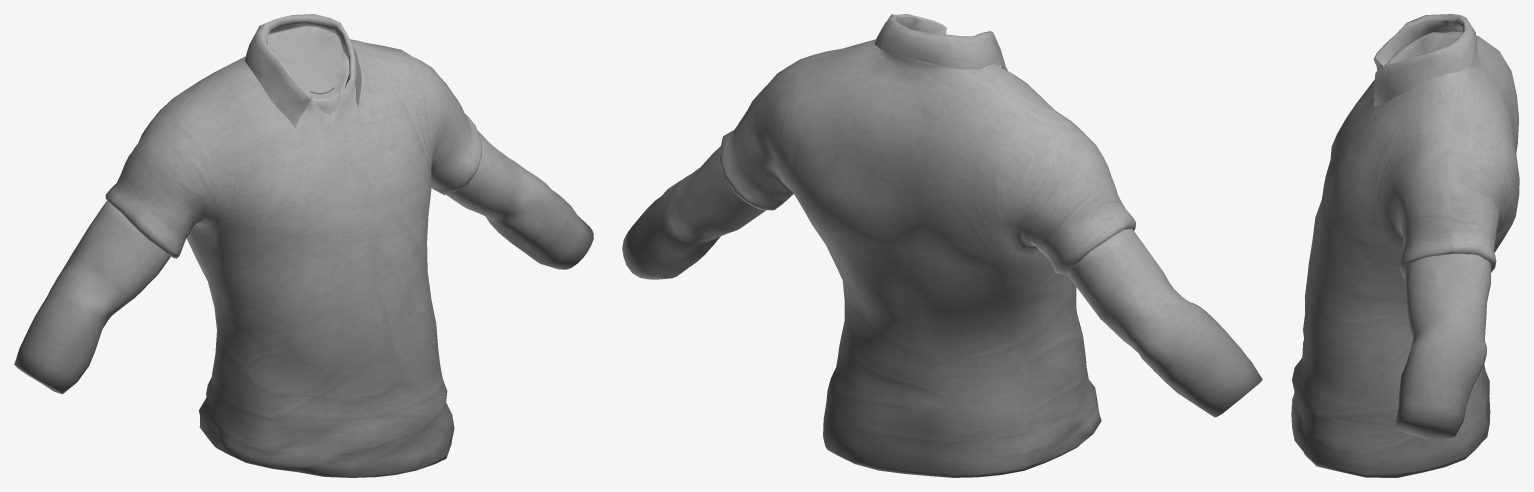
Rendered from SurvivorMale_Chest_Shirt_PoloLongSleeve_LOD0.glb.
3 views of the same model, side by side, from view 1: azimuth 30°, elevation 25°; view 2: azimuth 150°, elevation 25°; view 3: azimuth 270°, elevation 25° (orthographic). The views are drawn at different scales.
Visible parts, largest first — view 1: Hoodie; view 2: Hoodie; view 3: Hoodie.
Boxes of the visible parts, bbox=[...] form: Hoodie: bbox=[14, 14, 593, 477]; Hoodie: bbox=[622, 14, 1262, 477]; Hoodie: bbox=[1291, 14, 1519, 477].
Size of the model in its own units: 0.9982 by 0.6851 by 0.3542.
Materials: 1 (1 with a texture image).
